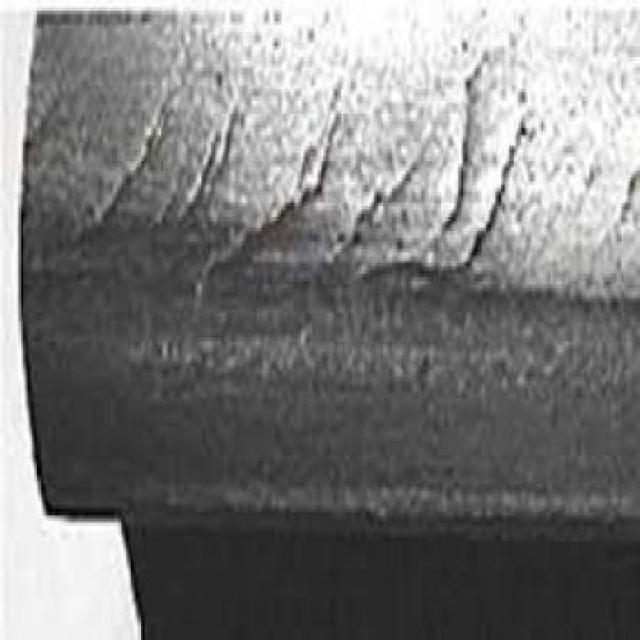defective: (18, 3, 640, 557)
